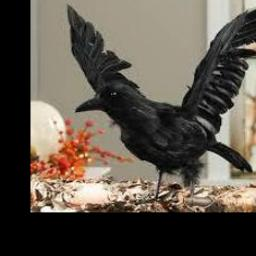Crow: (63, 0, 256, 199)
